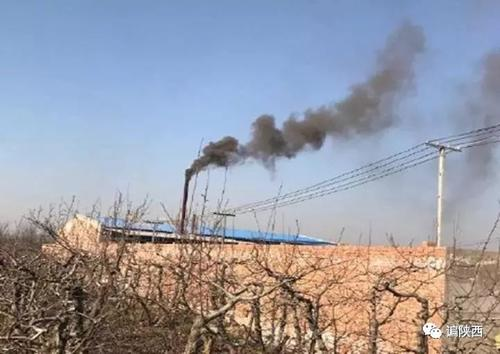smoke: (188, 21, 427, 176)
